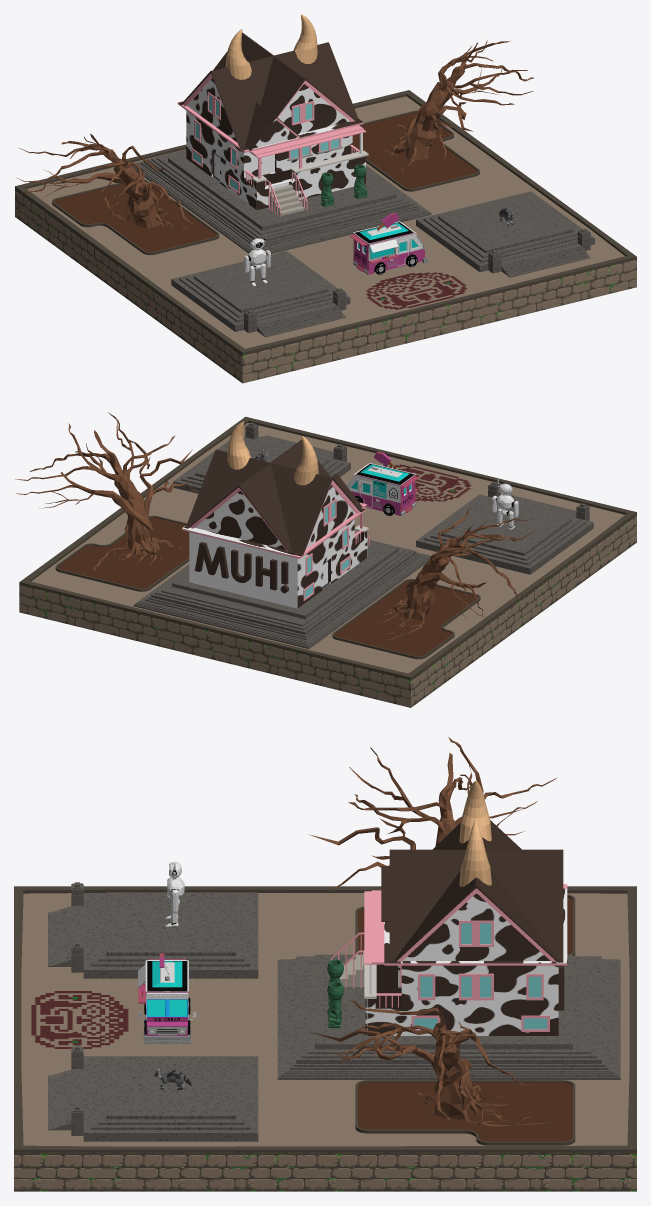
The picture shows the model from 3 angles, top to bottom: view 1: azimuth 30°, elevation 25°; view 2: azimuth 150°, elevation 25°; view 3: azimuth 270°, elevation 25°; orthographic projection. The views are drawn at different scales.
Visible parts, largest first — view 1: Cube.011, Cube.1242, VEHICLES_ICE_CREAM_TRUCK, OBJRANDOM_PLATZEEBOT; view 2: Cube.011, Cube.1242, VEHICLES_ICE_CREAM_TRUCK, OBJRANDOM_PLATZEEBOT; view 3: Cube.011, Cube.1242, VEHICLES_ICE_CREAM_TRUCK, OBJRANDOM_PLATZEEBOT.
Part boxes in pixels (box(x1,y1,x2,y2)): Cube.011: box(15, 40, 636, 383); Cube.1242: box(177, 14, 368, 216); VEHICLES_ICE_CREAM_TRUCK: box(350, 212, 428, 274); OBJRANDOM_PLATZEEBOT: box(244, 233, 270, 285); Cube.011: box(15, 412, 636, 707); Cube.1242: box(181, 421, 369, 608); VEHICLES_ICE_CREAM_TRUCK: box(347, 451, 419, 515); OBJRANDOM_PLATZEEBOT: box(492, 479, 518, 529); Cube.011: box(14, 737, 636, 1191); Cube.1242: box(330, 780, 567, 1035); VEHICLES_ICE_CREAM_TRUCK: box(138, 953, 196, 1043); OBJRANDOM_PLATZEEBOT: box(165, 861, 184, 926).
Size of the model in its own units: 5099 by 1869 by 4000.
42 materials, 6 textured.
